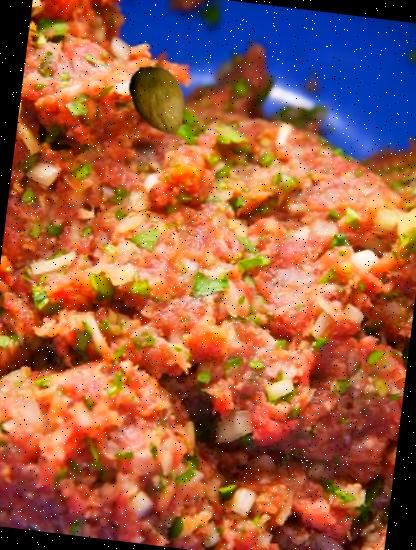Papaya: (118, 62, 196, 140)
